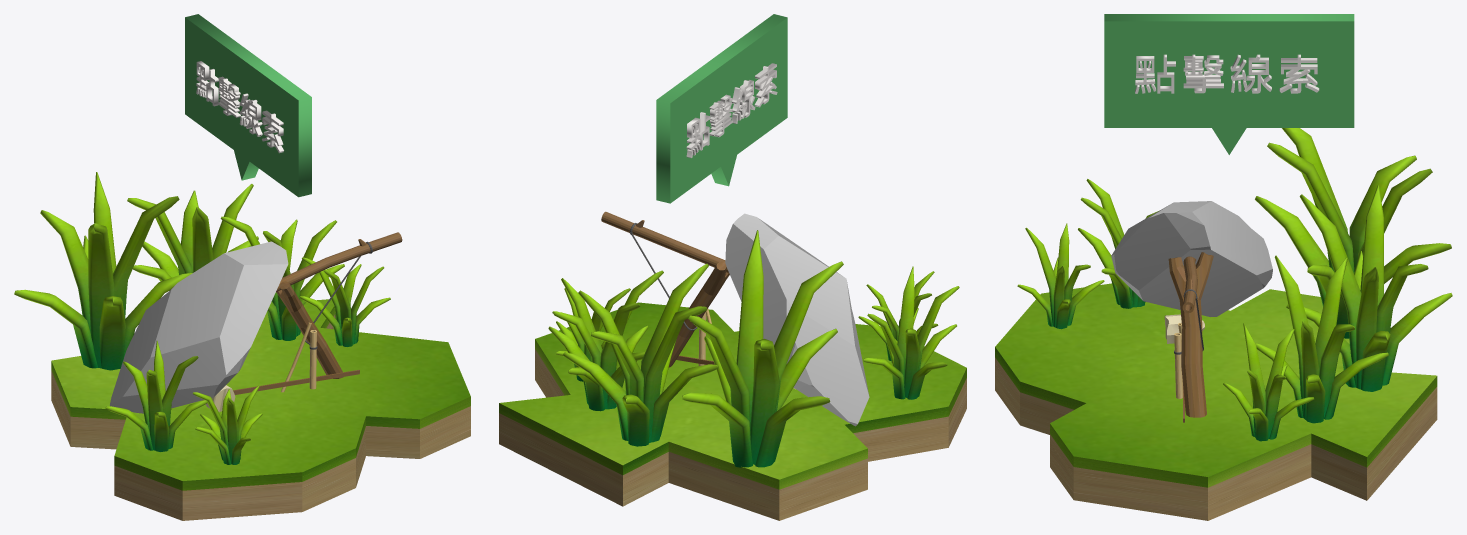
The model's file is clue1.glb.
The picture shows the model from 3 angles, left to right: view 1: azimuth 30°, elevation 25°; view 2: azimuth 150°, elevation 25°; view 3: azimuth 270°, elevation 25°; orthographic projection. The views are drawn at different scales.
Parts seen in each view (by area): view 1: clue1_game1, 對話框01.001; view 2: clue1_game1, 對話框01.001; view 3: clue1_game1, 對話框01.001.
Boxes of the visible parts, box(x1,y1,x2,y2) form: clue1_game1: box(14, 172, 470, 520); 對話框01.001: box(185, 14, 311, 197); clue1_game1: box(499, 211, 966, 520); 對話框01.001: box(656, 14, 787, 203); clue1_game1: box(995, 128, 1452, 520); 對話框01.001: box(1104, 14, 1354, 154).
Bounding box in the file's own units: 8.8 × 8.26 × 8.54.
Materials: 2 (2 with a texture image).
